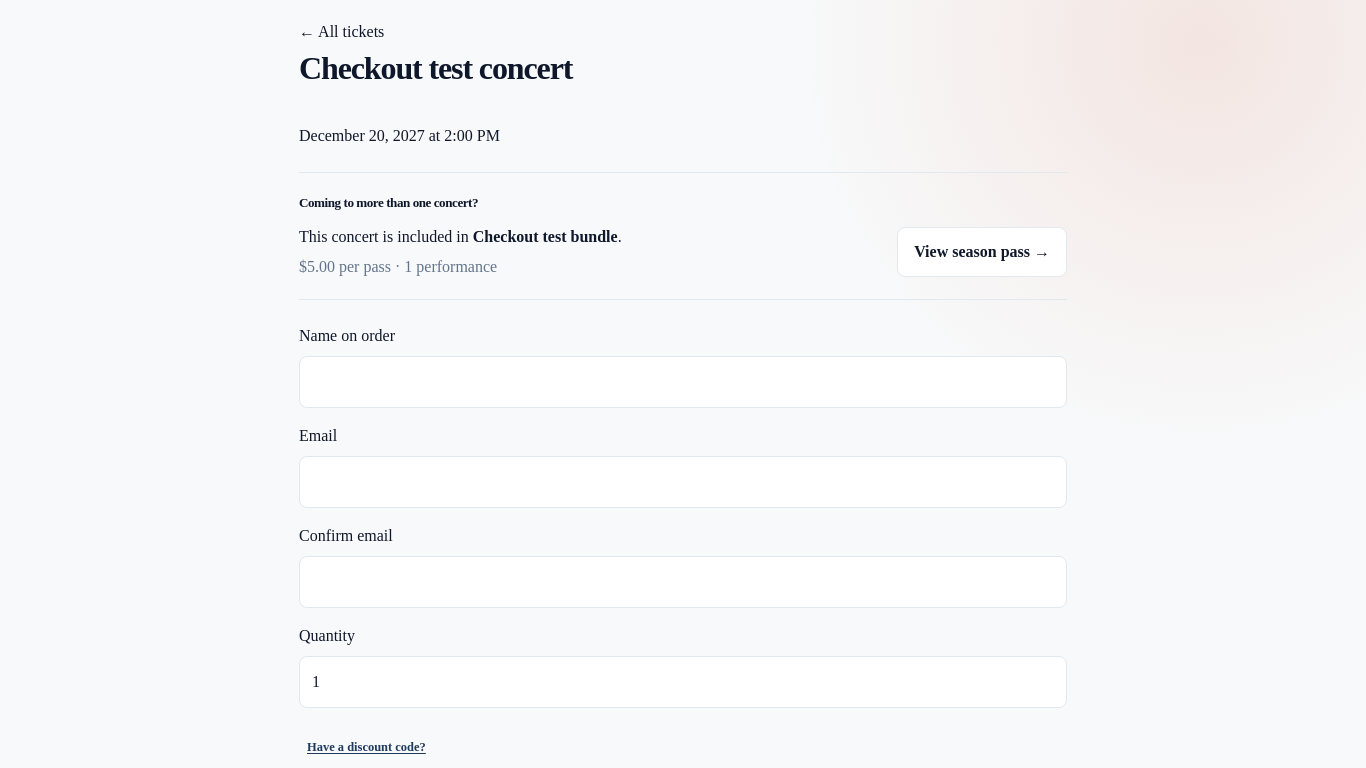
it: TicketCheckoutFooter › updates the CTA when applying and removing a 100 percent discount
This screenshot has width=1366, height=768.
Click the button "Have a discount code?". click: {"x": 366, "y": 747}
box: [299,732,434,762]
(page scrolled)
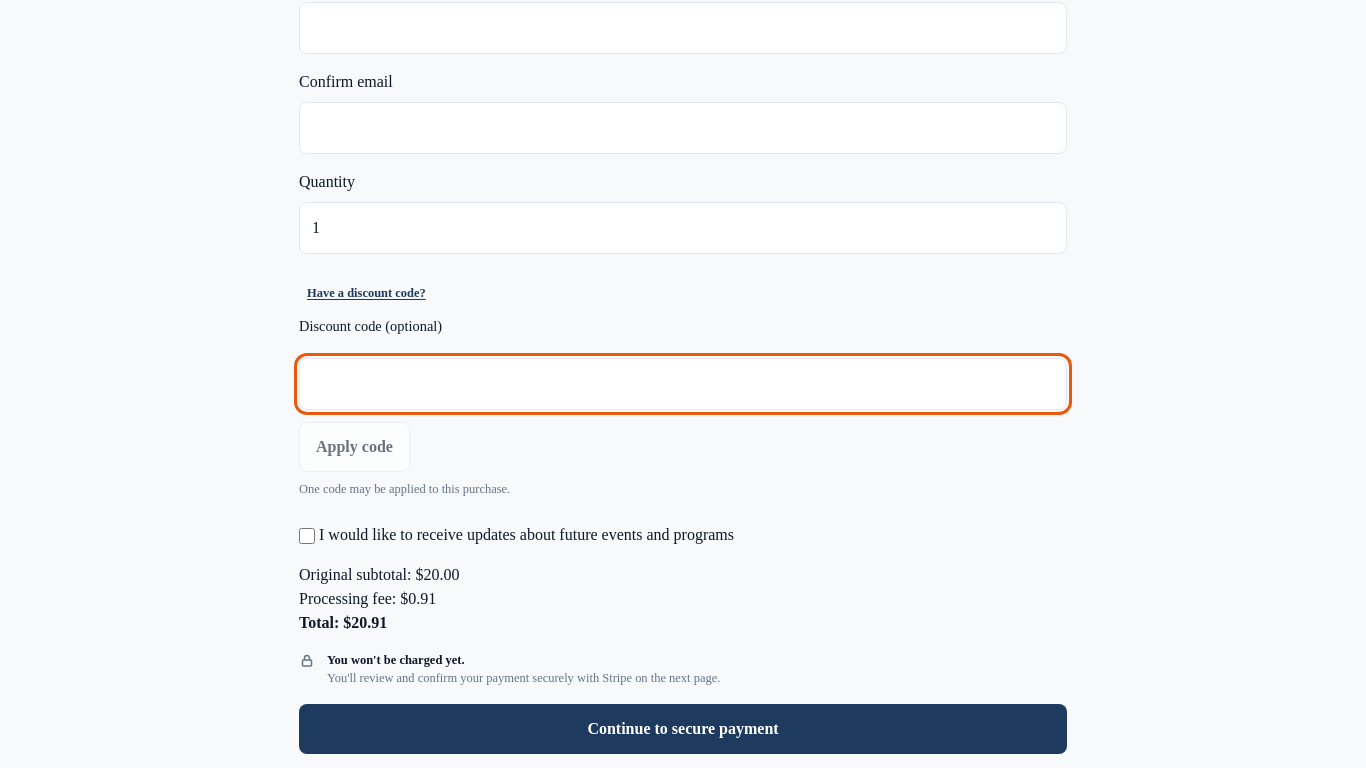
Type "FREE100" into the field labelled "Discount code (optional)". click: {"x": 683, "y": 384}
box: [299,358,1067,410]
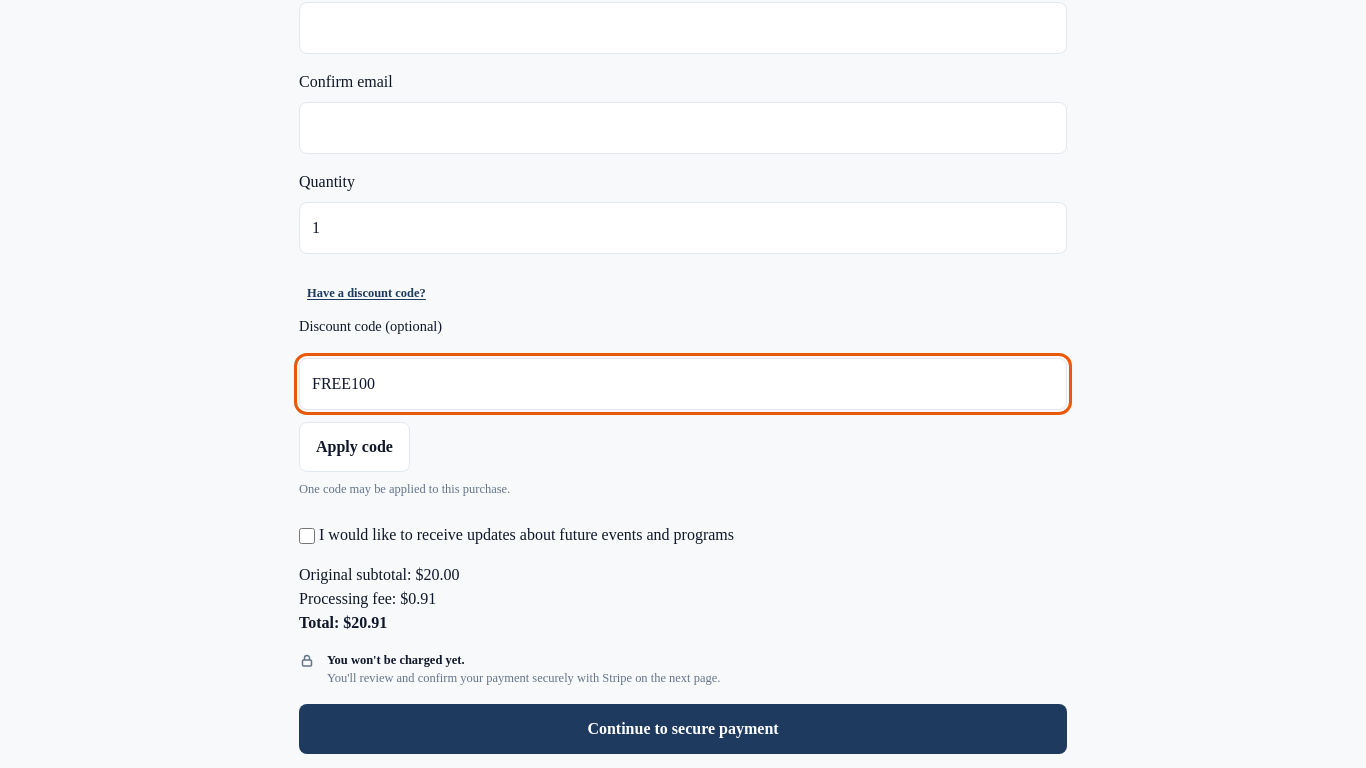
Click the button "Apply code". click: {"x": 354, "y": 447}
box: [299,422,410,472]
(page scrolled)
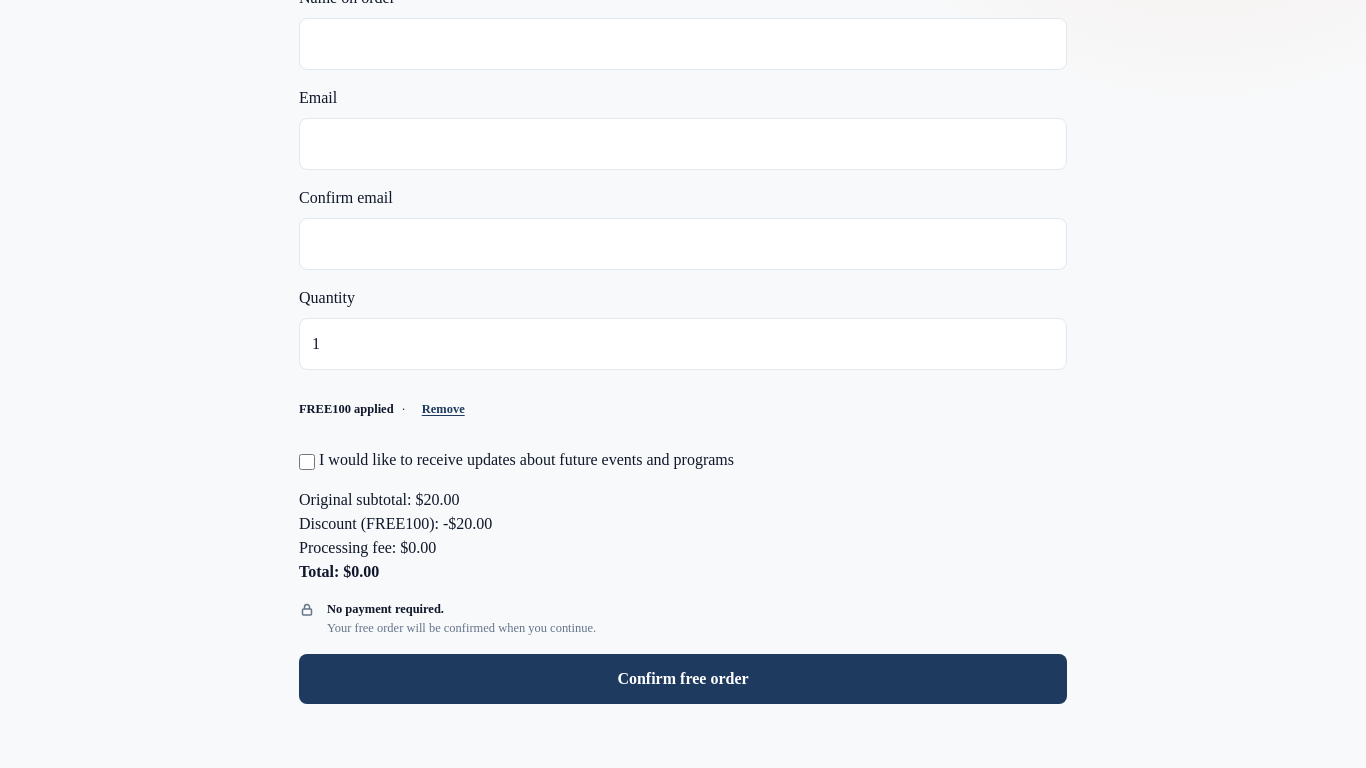
Check: the button "Confirm free order" is enabled, box [299,654,1067,704]
Check: the text "No payment required." is shown, box [327,602,444,616]
Click the button "Remove". click: {"x": 443, "y": 409}
box: [414,394,473,424]
(page scrolled)
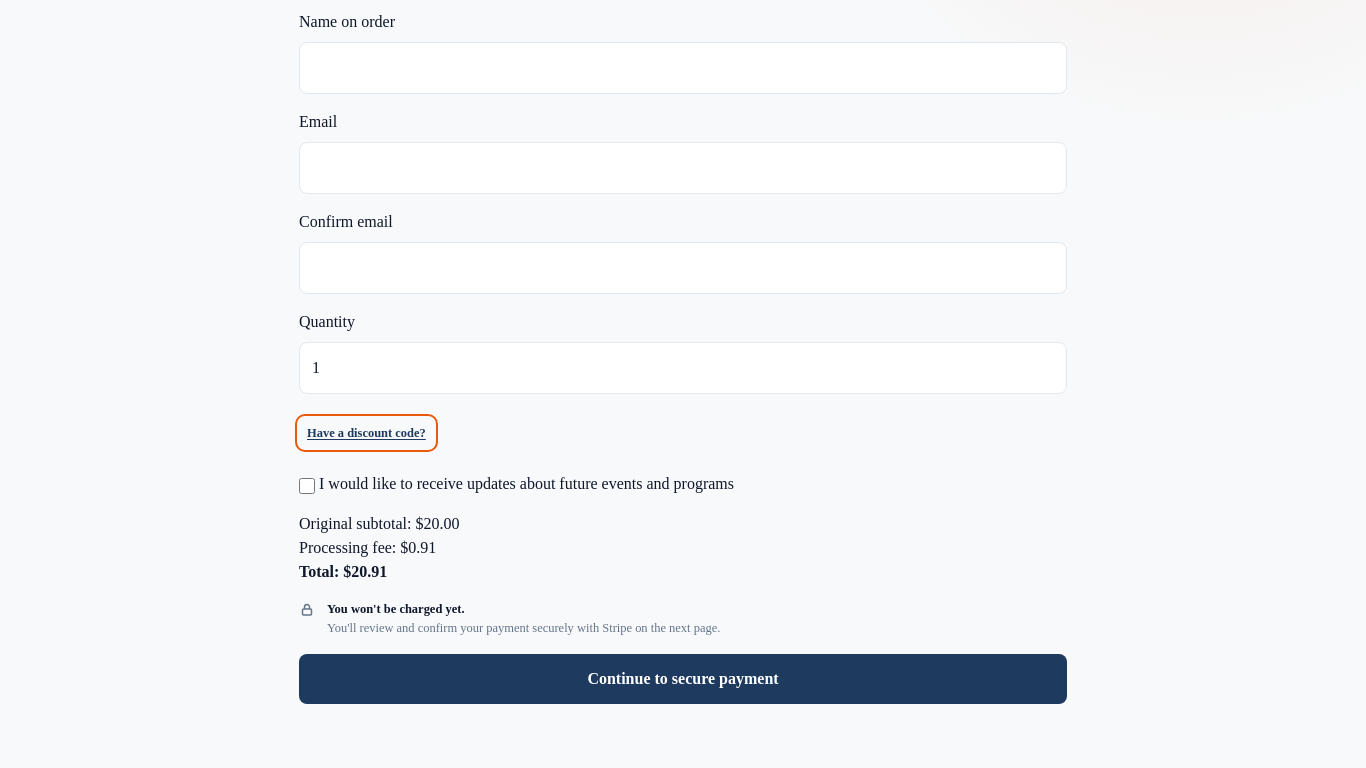
Check: the button "Continue to secure payment" is shown, box [299,654,1067,704]
Check: the text "No payment required." is gone
